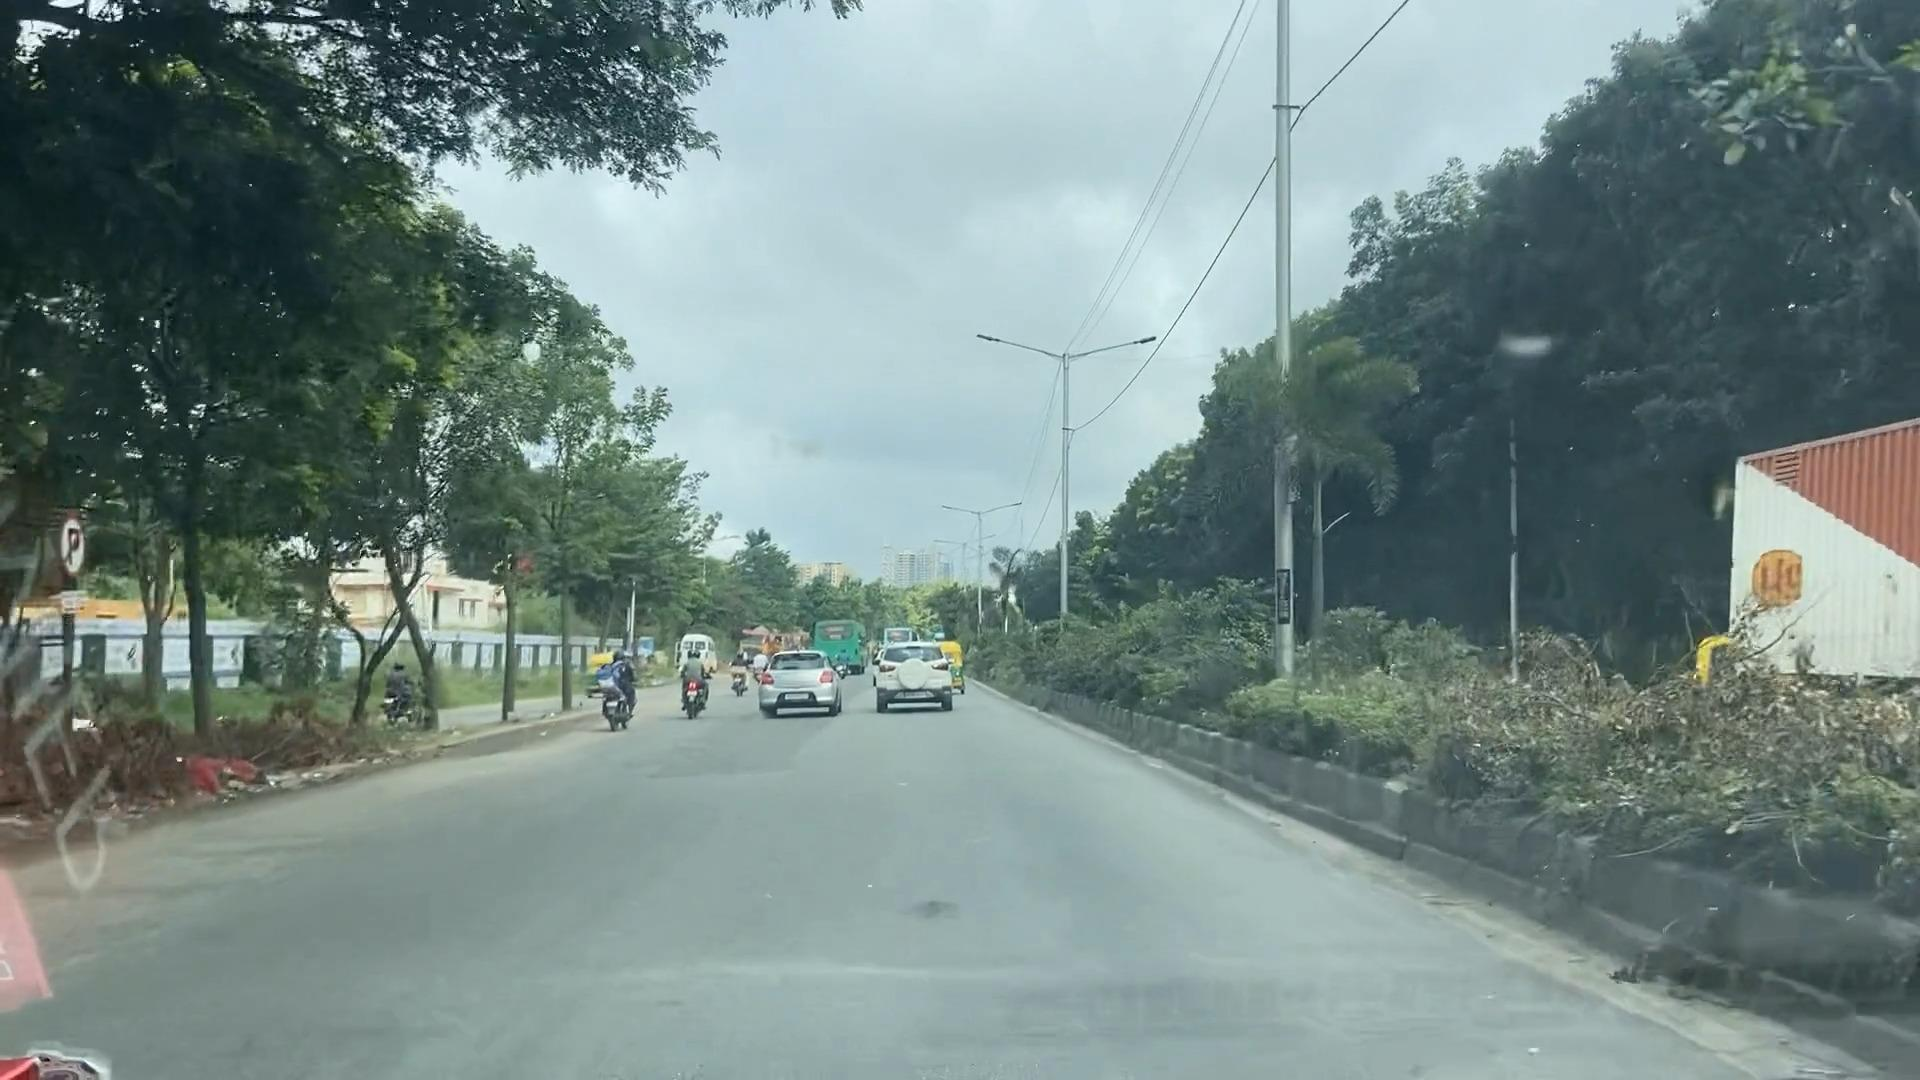LMV: (749, 634, 849, 728), (874, 626, 973, 716), (588, 642, 646, 736), (678, 626, 725, 720)
